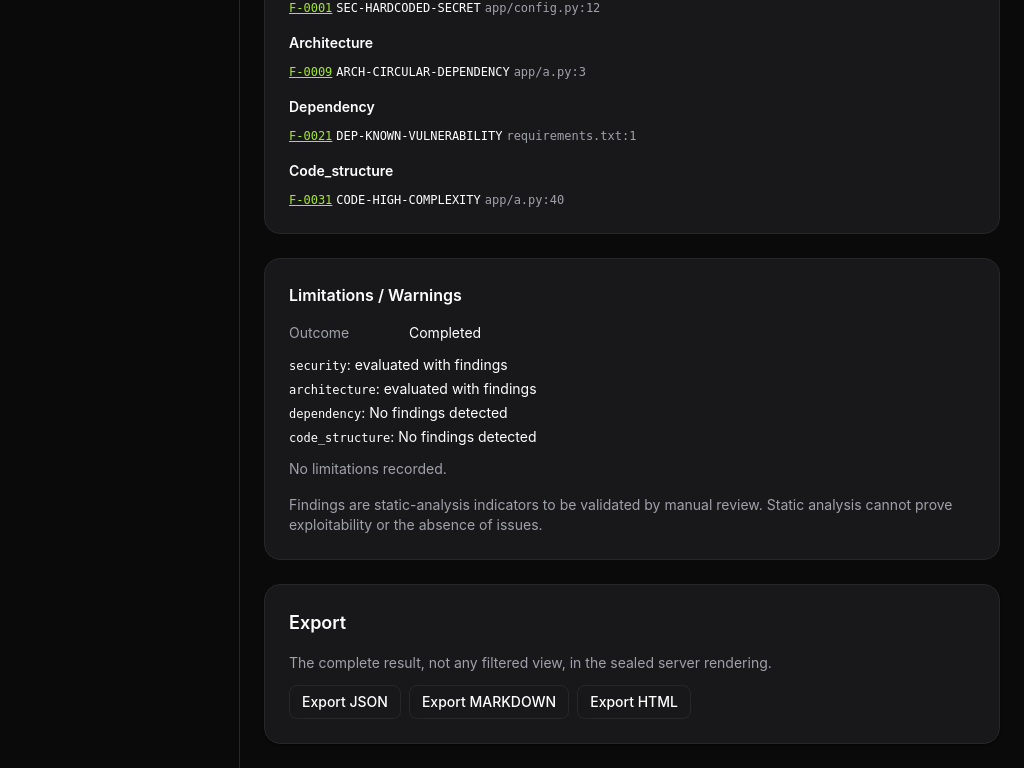
Test: Export buttons › never saves error responses as reports
(page scrolled)
Click the button with aria-label "Export report as JSON" at [345, 702], box [289,685,401,719]
(page scrolled)
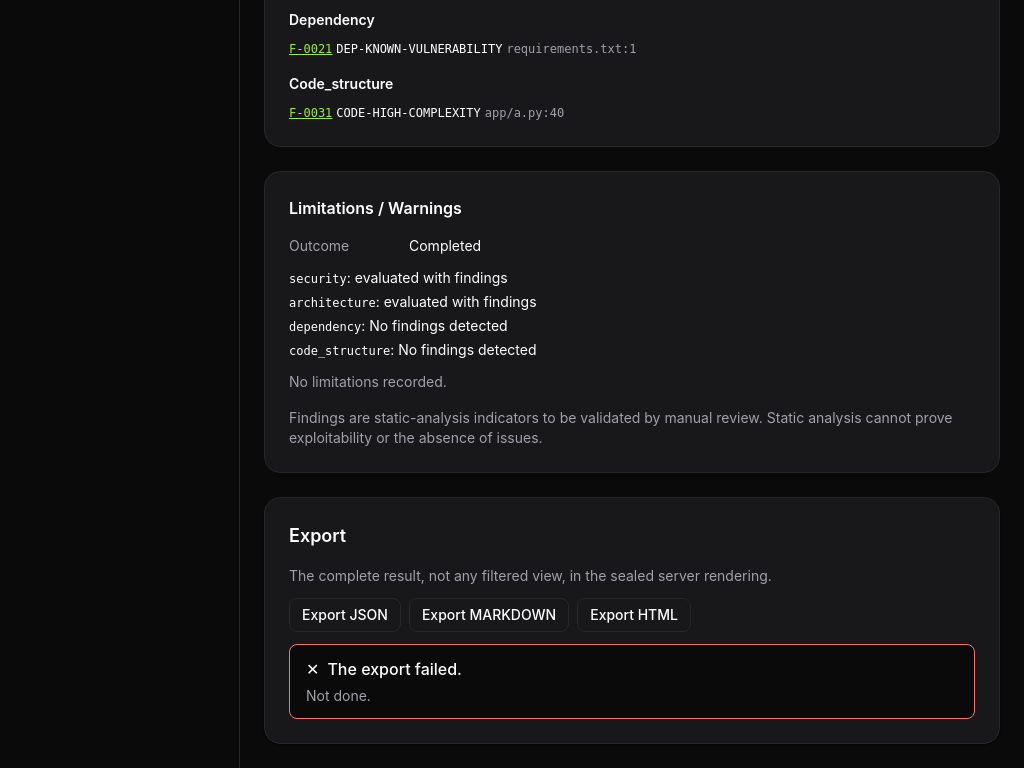
Expected: the text "The export failed." is shown, [327,659,462,679]
Expected: the text "Not done." is shown, [306,687,371,704]
